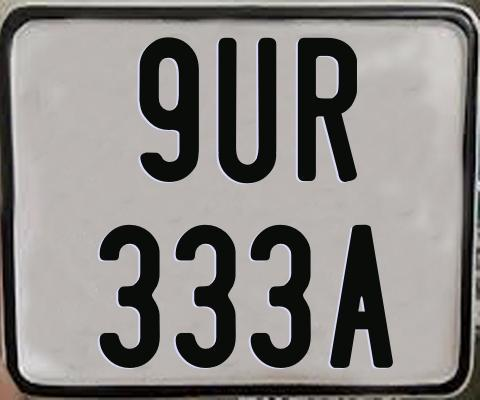3: (99, 224, 164, 372), (250, 225, 314, 368), (173, 224, 234, 367)
9: (138, 34, 203, 181)
A: (330, 223, 393, 368)
R: (297, 38, 356, 182)
U: (217, 35, 280, 180)
